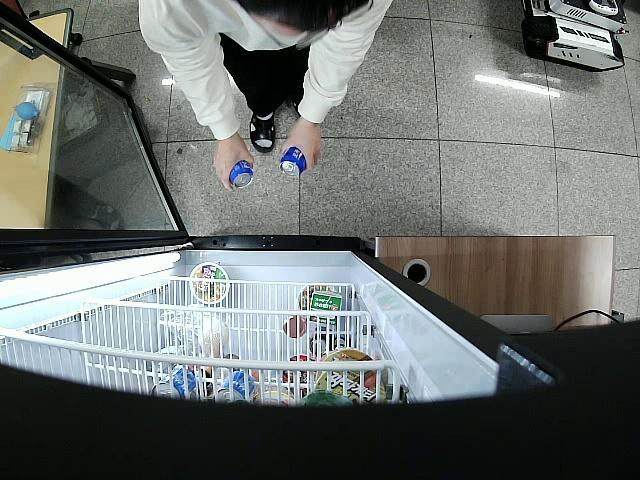13_pocariSweat: (278, 150, 308, 181), (227, 158, 254, 190)
